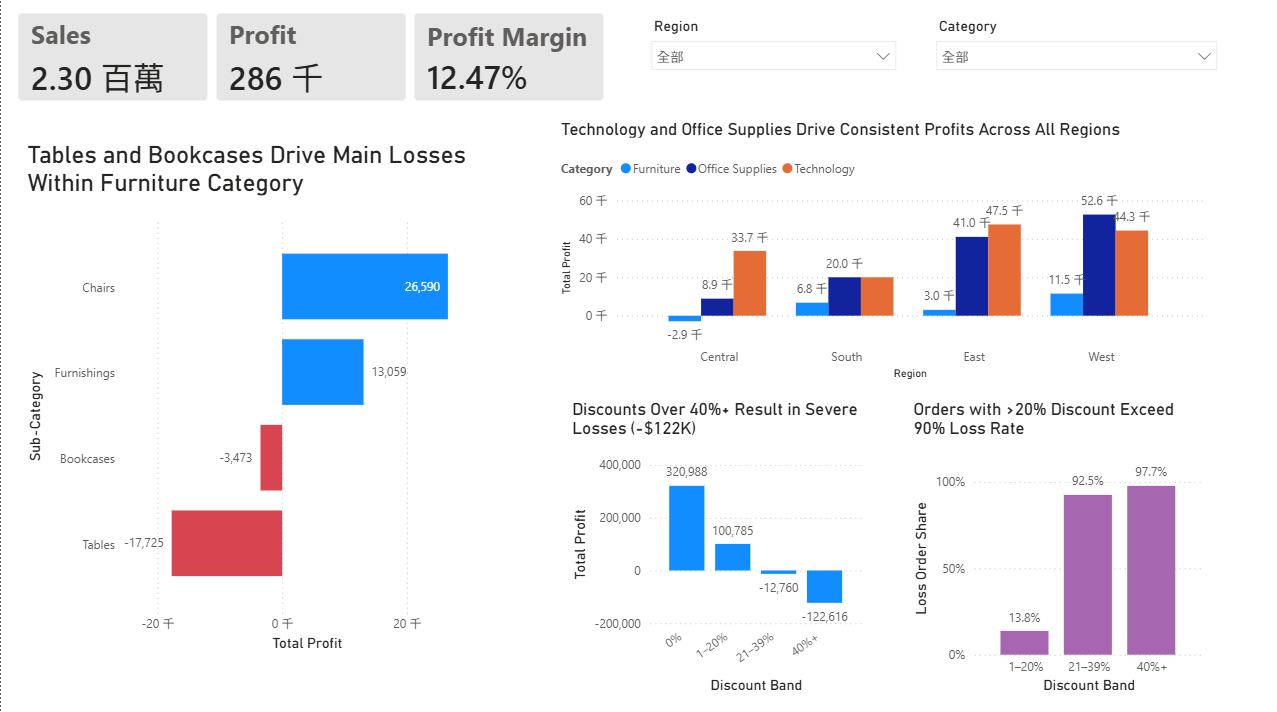

This screenshot's page, from the dashboard's own definition file:
{"tool":"powerbi","page":{"name":"第 2 頁","canvas":[1280,720],"ordinal":0},"visuals":[{"type":"columnChart","title":"Discounts Over 40%+ Result in Severe Losses (-$122K)","fields":{"Category":["SampleSuperstore.Discount Band"],"Y":["Sum(SampleSuperstore.Profit)"]},"box":[532.5,402.5,300,300],"z":0},{"type":"columnChart","title":"Orders with >20% Discount Exceed 90% Loss Rate","fields":{"Category":["SampleSuperstore.Discount Band"],"Y":["SampleSuperstore.Loss Order Share"]},"box":[881.2,402.5,300,300],"z":1000},{"type":"cardVisual","fields":{"Data":["Sum(SampleSuperstore.Sales)","Sum(SampleSuperstore.Profit)","SampleSuperstore.Profit Margin"]},"box":[0,0,620,122.5],"z":2000},{"type":"clusteredColumnChart","title":"Technology and Office Supplies Drive Consistent Profits Across All Regions","fields":{"Category":["SampleSuperstore.Region"],"Y":["Sum(SampleSuperstore.Profit)"],"Series":["SampleSuperstore.Category"]},"box":[555,122.5,652.5,266.2],"z":3000},{"type":"barChart","title":"Tables and Bookcases Drive Main Losses Within Furniture Category","fields":{"Category":["SampleSuperstore.Sub-Category"],"Y":["Sum(SampleSuperstore.Profit)"]},"box":[21.2,145,488.8,515],"z":3001},{"type":"slicer","fields":{"Values":["SampleSuperstore.Region"]},"box":[640,16.2,265,90],"z":3002},{"type":"slicer","fields":{"Values":["SampleSuperstore.Category"]},"box":[925,16.2,301.2,77.5],"z":3003}]}

Visuals, with their boxes in screenshot pixels (x1, y1, x2, y2), scaled from the page's 1280x720 canvas onto the 1277x712 screenshot:
"Discounts Over 40%+ Result in Severe Losses (-$122K)" columnChart: [531, 398, 831, 695]
"Orders with >20% Discount Exceed 90% Loss Rate" columnChart: [879, 398, 1178, 695]
cardVisual - Sum(SampleSuperstore.Sales) x Sum(SampleSuperstore.Profit): [0, 0, 619, 121]
"Technology and Office Supplies Drive Consistent Profits Across All Regions" clusteredColumnChart: [554, 121, 1205, 384]
"Tables and Bookcases Drive Main Losses Within Furniture Category" barChart: [21, 143, 509, 653]
slicer - SampleSuperstore.Region: [638, 16, 903, 105]
slicer - SampleSuperstore.Category: [923, 16, 1223, 93]
